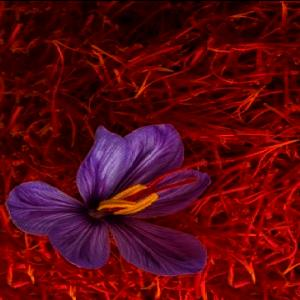Saffron: (5, 120, 212, 274)
